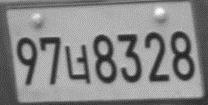2: (143, 30, 170, 82)
3: (117, 33, 143, 83)
7: (38, 36, 61, 85)
8: (169, 29, 196, 80), (92, 33, 117, 83)
9: (14, 36, 38, 85)
너: (64, 43, 91, 84)
